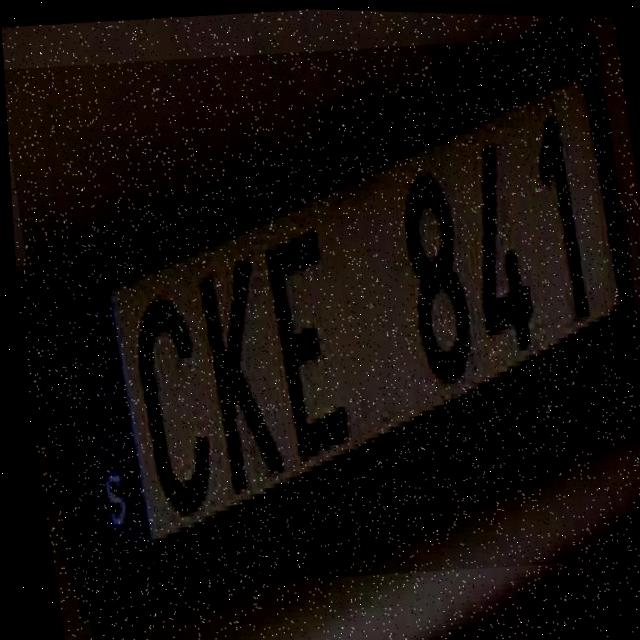LicensePlate: (1, 16, 640, 605)
